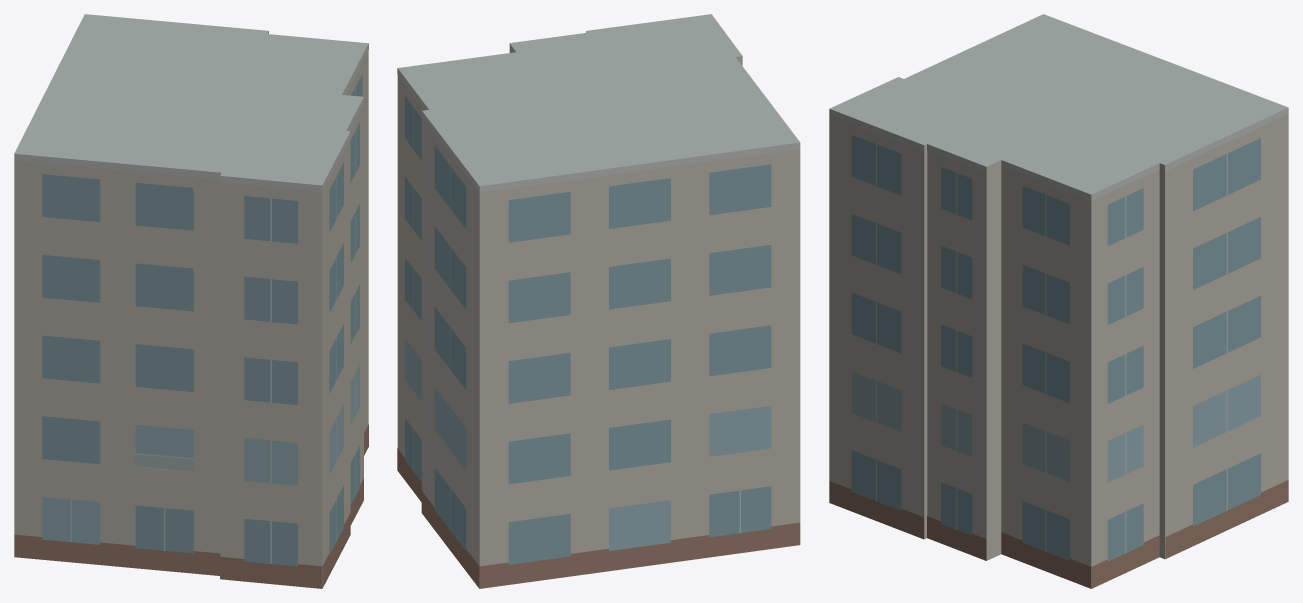
The model's file is survey-upis-32780028.glb.
The picture shows the model from 3 angles, left to right: view 1: azimuth 30°, elevation 25°; view 2: azimuth 150°, elevation 25°; view 3: azimuth 270°, elevation 25°; orthographic projection. The views are drawn at different scales.
Visible parts, largest first — view 1: survey-upis-32780028.tmp; view 2: survey-upis-32780028.tmp; view 3: survey-upis-32780028.tmp.
Part boxes in pixels (x1,y1,x2,y2): survey-upis-32780028.tmp: (14, 14, 368, 588); survey-upis-32780028.tmp: (397, 14, 800, 588); survey-upis-32780028.tmp: (829, 14, 1288, 588).
Bounding box in the file's own units: 14.66 × 14.9 × 15.74.
